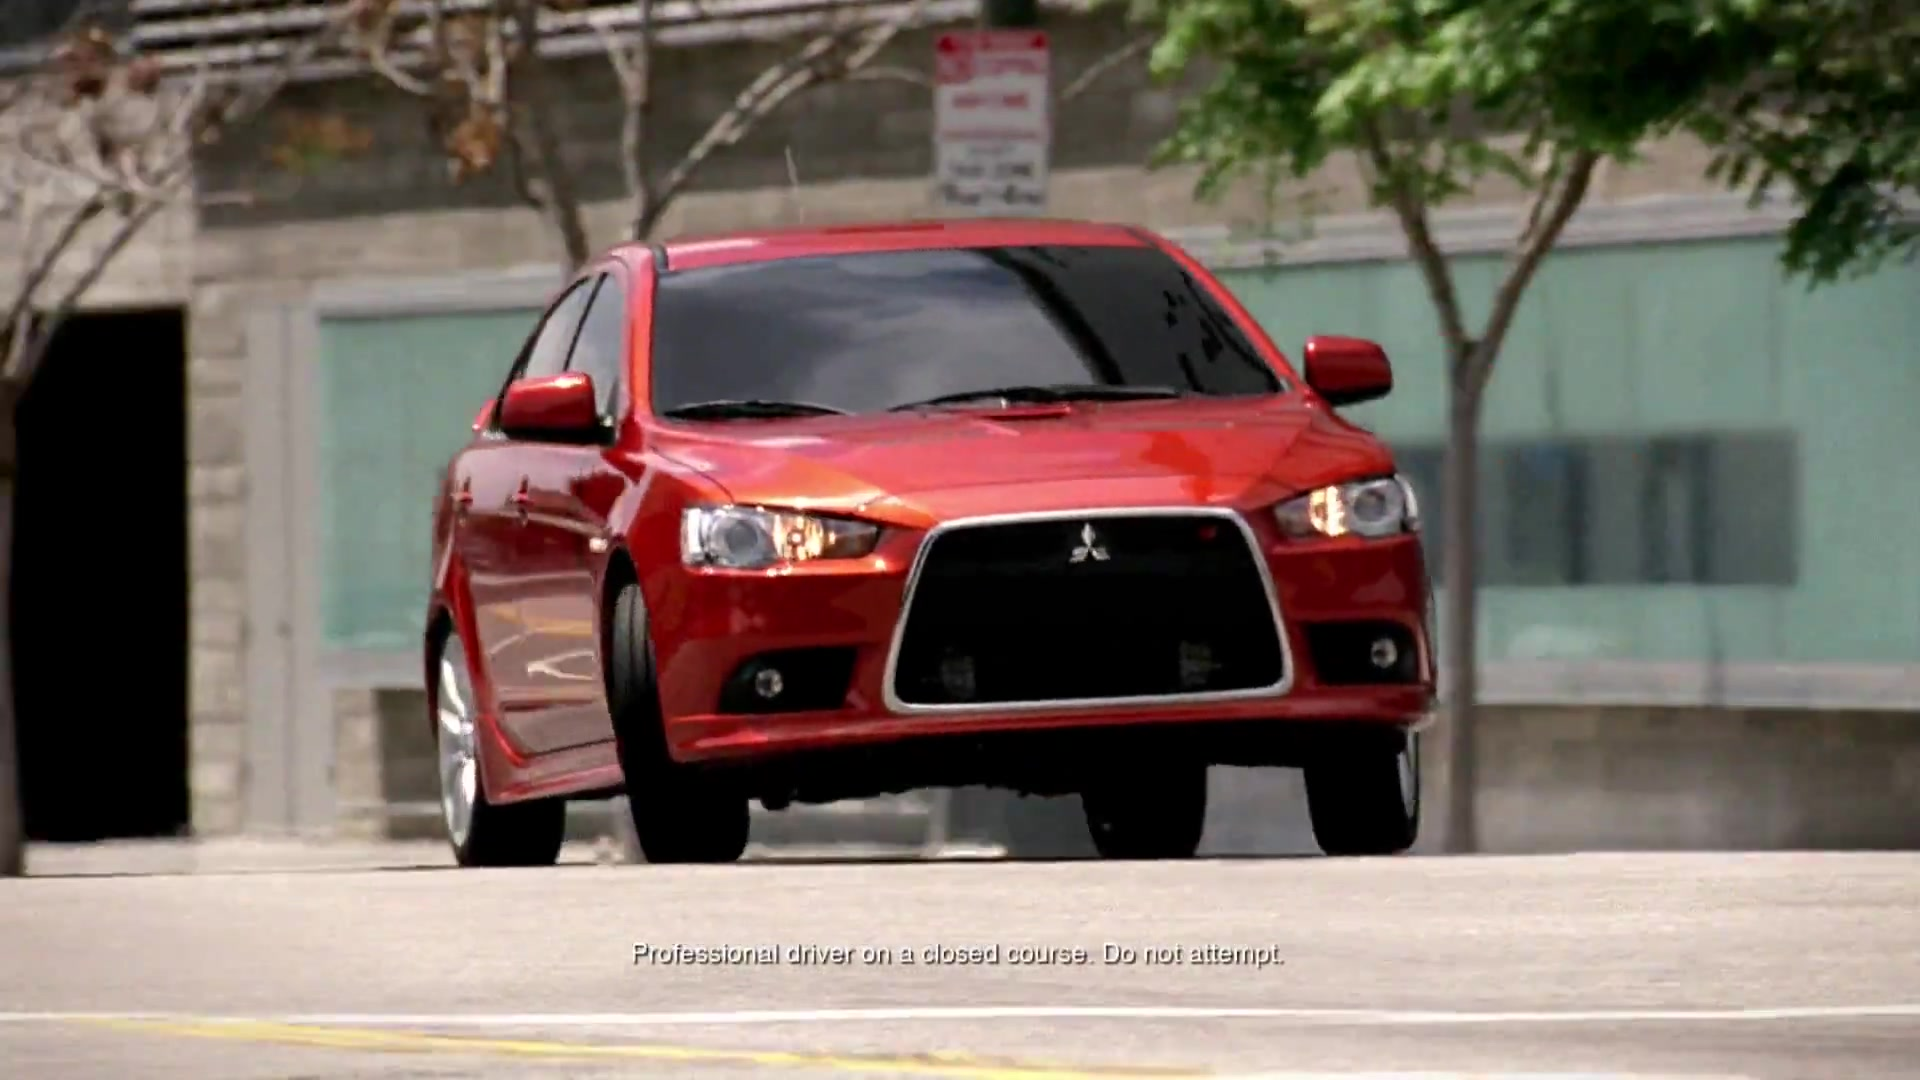car: (421, 216, 1433, 862)
